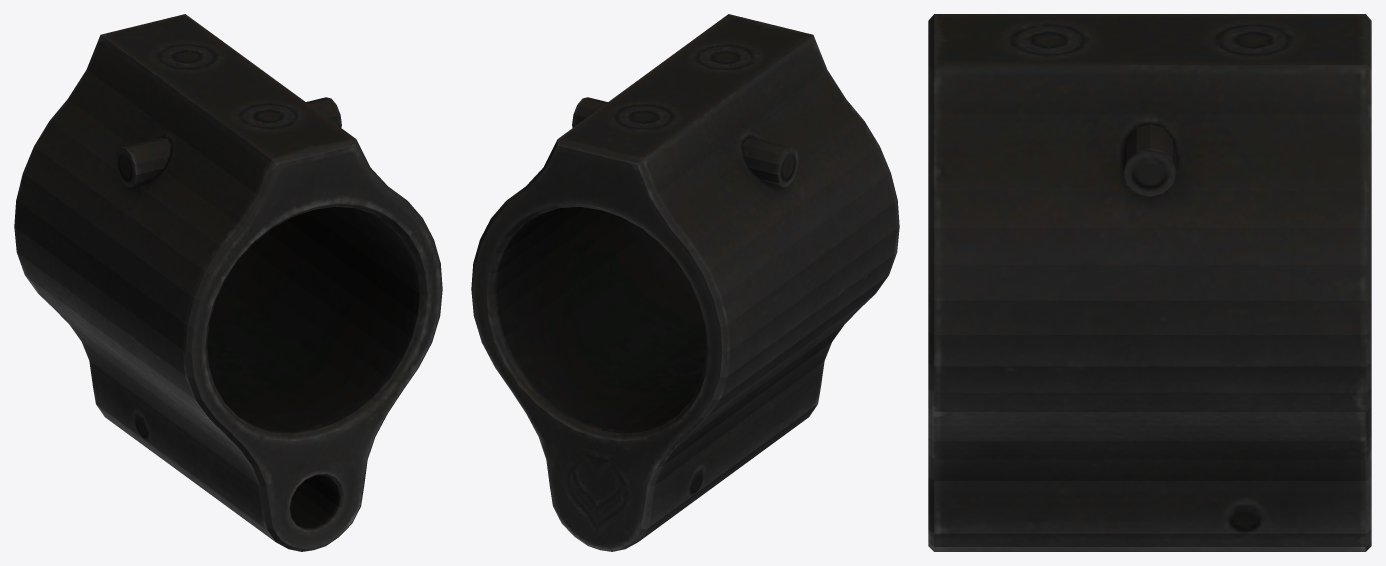
3 renders of one model, left to right at view 1: azimuth 30°, elevation 25°; view 2: azimuth 150°, elevation 25°; view 3: azimuth 270°, elevation 25°, orthographic. The views are drawn at different scales.
Parts seen in each view (by area): view 1: TW_63d3ce281fe77d0f2801859e_PZ_Import; view 2: TW_63d3ce281fe77d0f2801859e_PZ_Import; view 3: TW_63d3ce281fe77d0f2801859e_PZ_Import.
Boxes of the visible parts, <box> form: TW_63d3ce281fe77d0f2801859e_PZ_Import: <box>14,14,442,551</box>; TW_63d3ce281fe77d0f2801859e_PZ_Import: <box>471,14,899,551</box>; TW_63d3ce281fe77d0f2801859e_PZ_Import: <box>928,14,1371,551</box>.
Bounding box in the file's own units: 0.0135 × 0.016 × 0.0201.
1 material, 1 textured.
